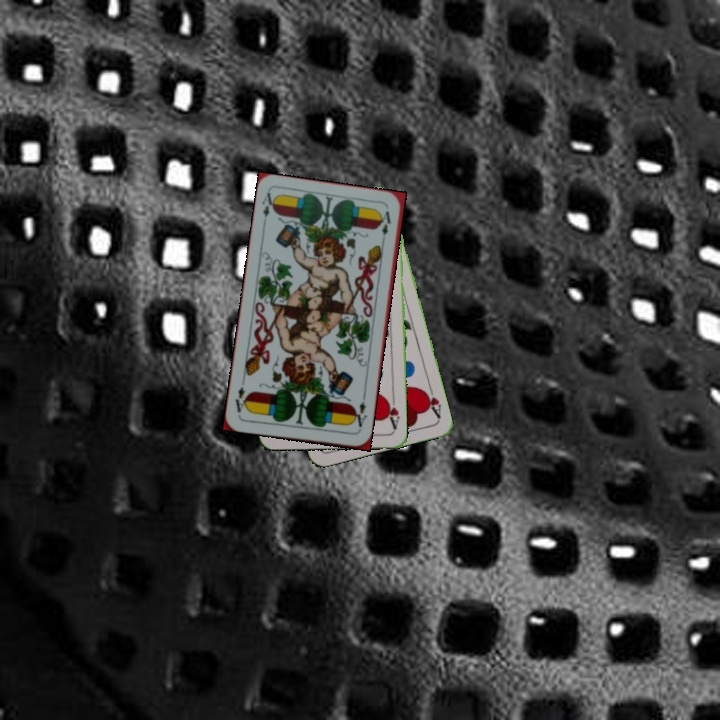EA: (349, 392, 370, 433), (258, 188, 279, 229)
HA: (420, 381, 444, 421), (382, 392, 402, 432)
